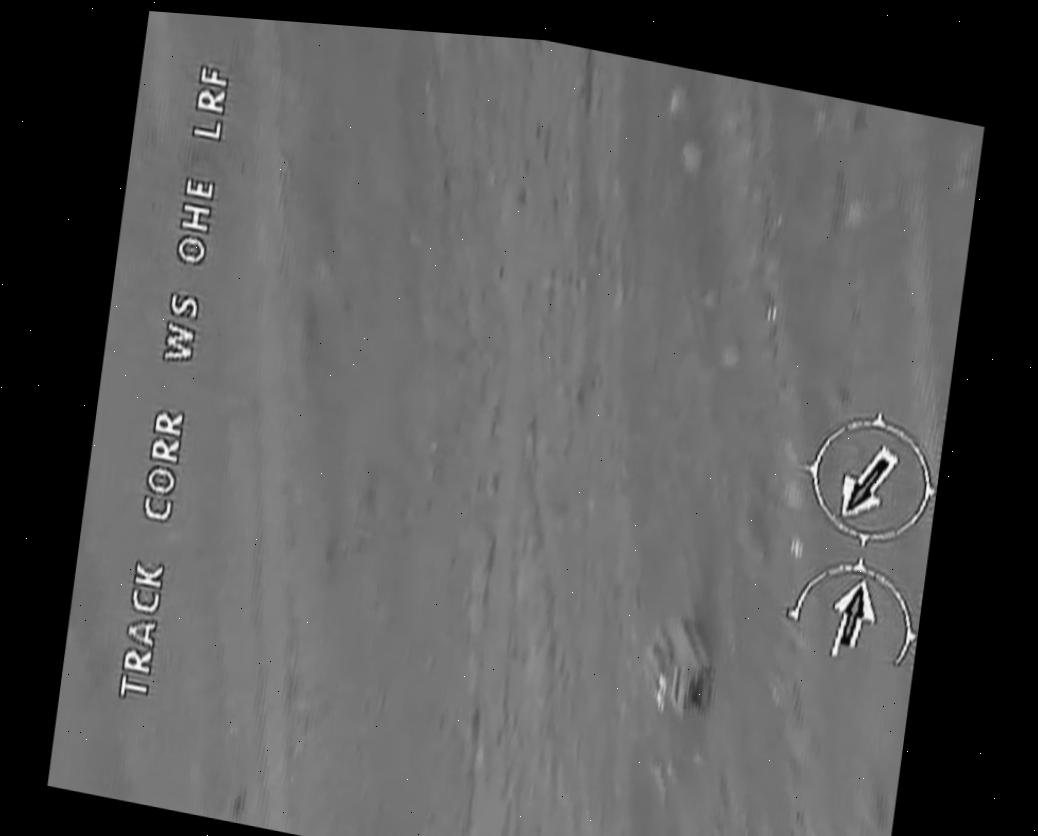armored_car: (635, 597, 731, 731)
